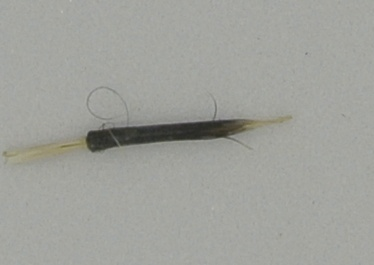เมล้ดปลายพู่กัน: (4, 81, 294, 167)
